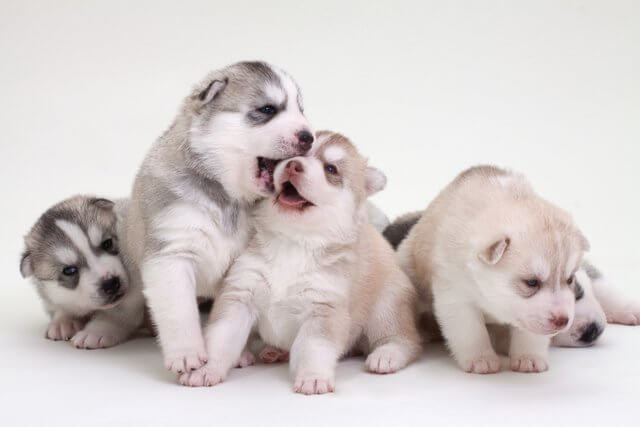husky: (421, 174, 596, 349), (169, 44, 321, 203), (23, 182, 128, 358)
